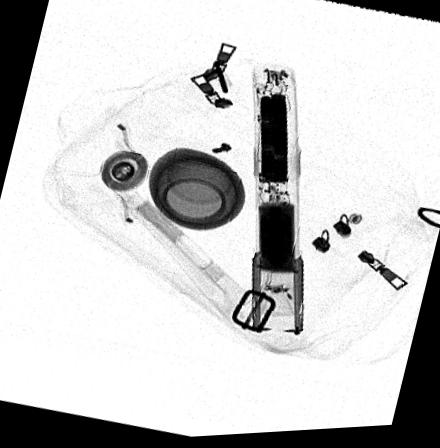Baton: (252, 65, 304, 340)
